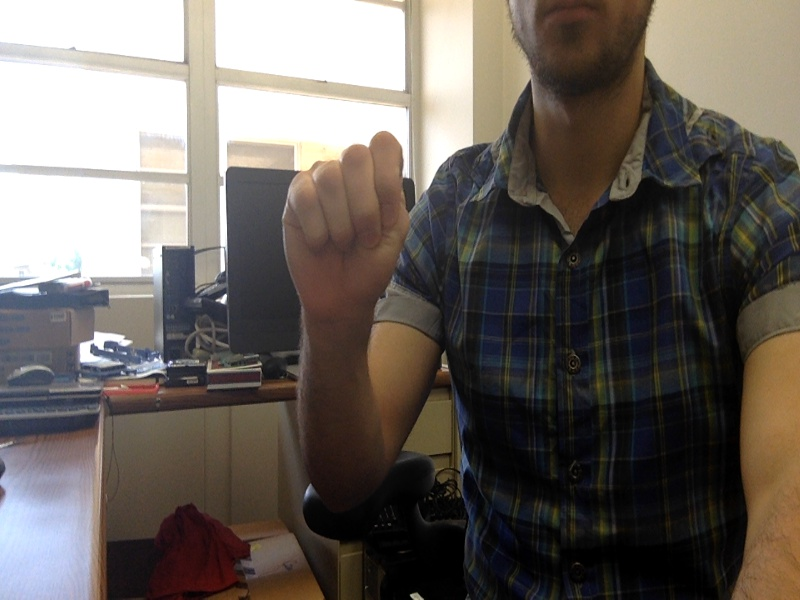0-hand: (282, 132, 409, 315)
